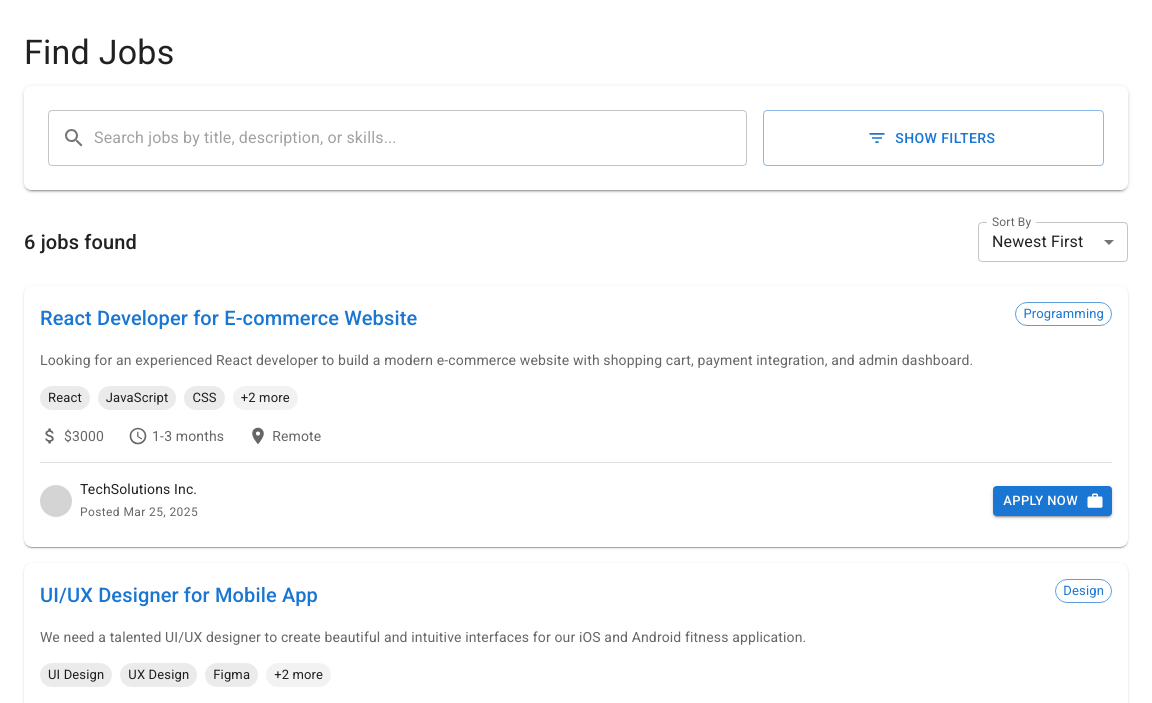
Test: JobsPage Component › filters jobs by search term
Expected: the link "React Developer for E-commerce Website" is shown, x1=40 y1=302 x2=417 y2=334
Expected: the link "UI/UX Designer for Mobile App" is shown, x1=40 y1=579 x2=318 y2=611
# Enter a search term
Step 1. Type "React" into the field with placeholder "Search jobs by title, description, or skills..." → x=420, y=138, box x1=94 y1=110 x2=747 y2=166
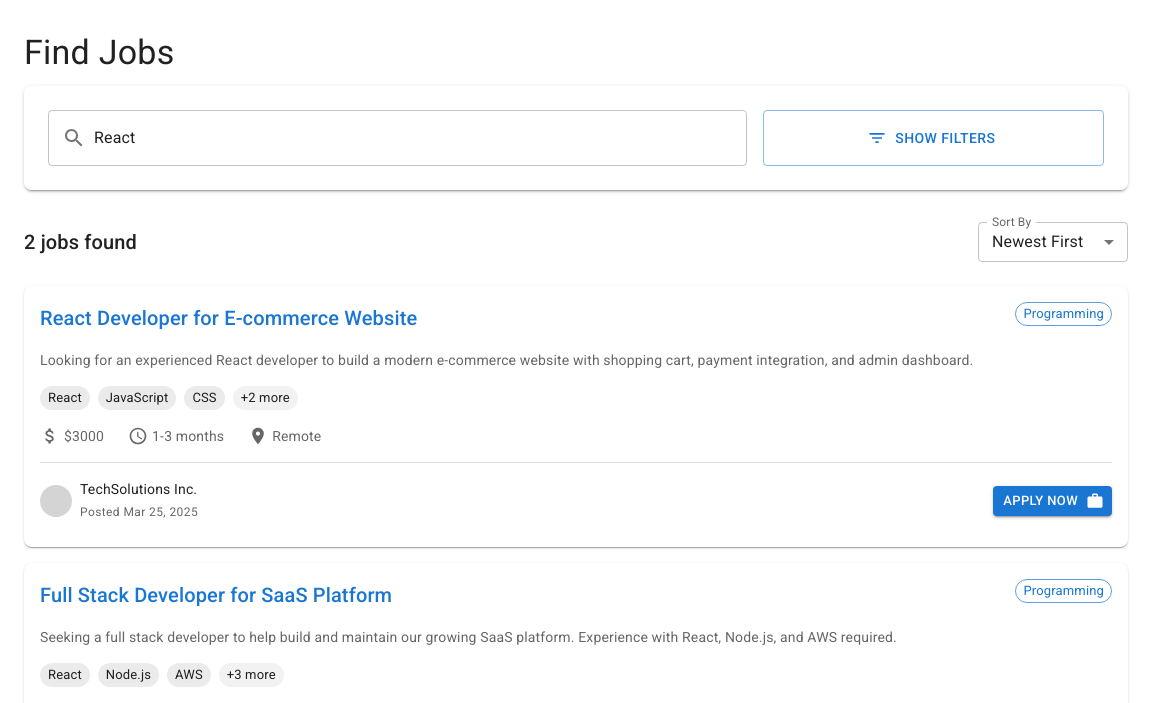
Expected: the link "React Developer for E-commerce Website" is shown, x1=40 y1=302 x2=417 y2=334
Now the link "UI/UX Designer for Mobile App" is gone
